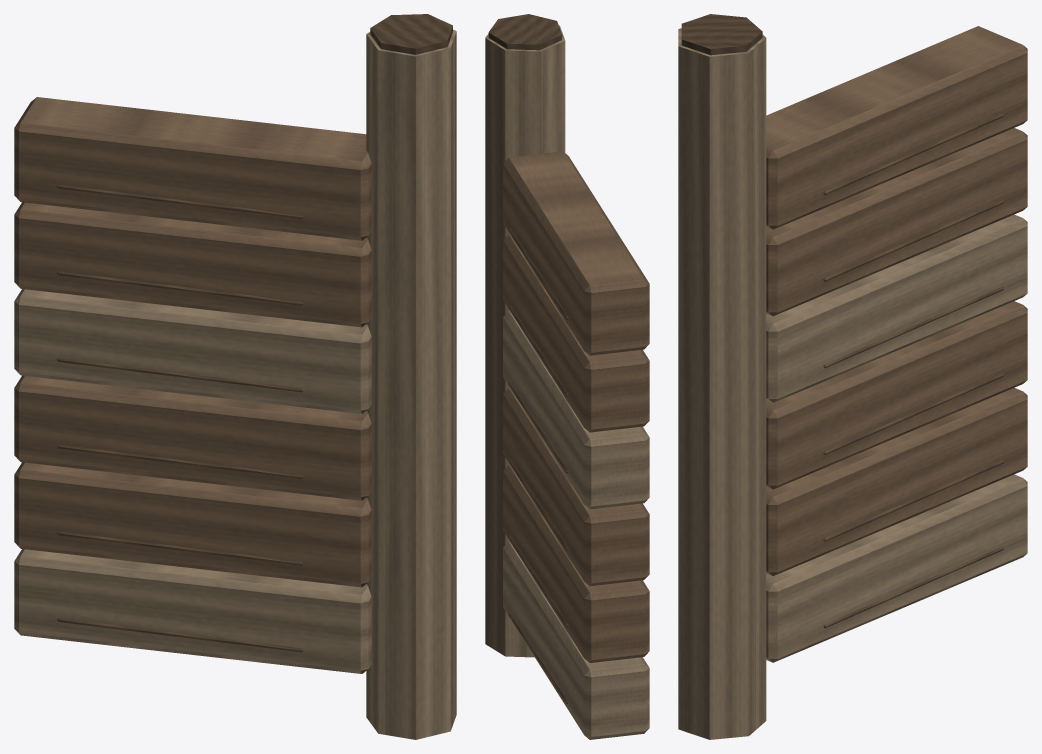
The model's file is wall_mask_32.glb.
3 renders of one model, left to right at view 1: azimuth 30°, elevation 25°; view 2: azimuth 150°, elevation 25°; view 3: azimuth 270°, elevation 25°, orthographic. The views are drawn at different scales.
Visible parts, largest first — view 1: wall_mask_32__Weathered_timber, wall_mask_32__Timber_worn_edges, wall_mask_32__Dark_endgrain; view 2: wall_mask_32__Weathered_timber, wall_mask_32__Timber_worn_edges, wall_mask_32__Dark_endgrain; view 3: wall_mask_32__Timber_worn_edges, wall_mask_32__Weathered_timber, wall_mask_32__Dark_endgrain.
Part boxes in pixels (x1,y1,x2,y2): wall_mask_32__Weathered_timber: (14, 97, 371, 587); wall_mask_32__Timber_worn_edges: (14, 29, 456, 739); wall_mask_32__Dark_endgrain: (57, 14, 452, 652); wall_mask_32__Weathered_timber: (503, 151, 649, 662); wall_mask_32__Timber_worn_edges: (485, 25, 649, 739); wall_mask_32__Dark_endgrain: (488, 14, 568, 703); wall_mask_32__Timber_worn_edges: (678, 28, 1027, 739); wall_mask_32__Weathered_timber: (766, 26, 1027, 575); wall_mask_32__Dark_endgrain: (681, 14, 1003, 628).
Size of the model in its own units: 0.6463 by 1.39 by 0.64.
Materials: 3 (3 with a texture image).
